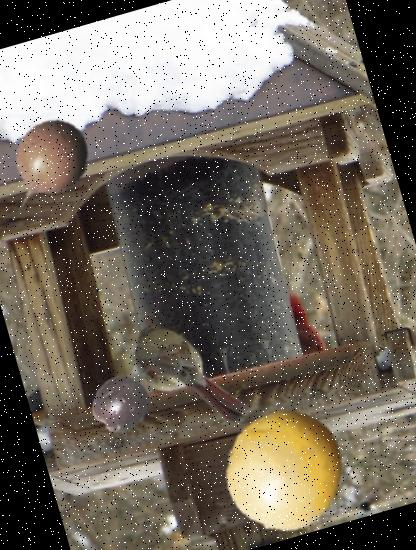Granadilla: (0, 103, 112, 234)
Grapefruit: (209, 394, 361, 546)
Passion: (83, 367, 157, 441)
